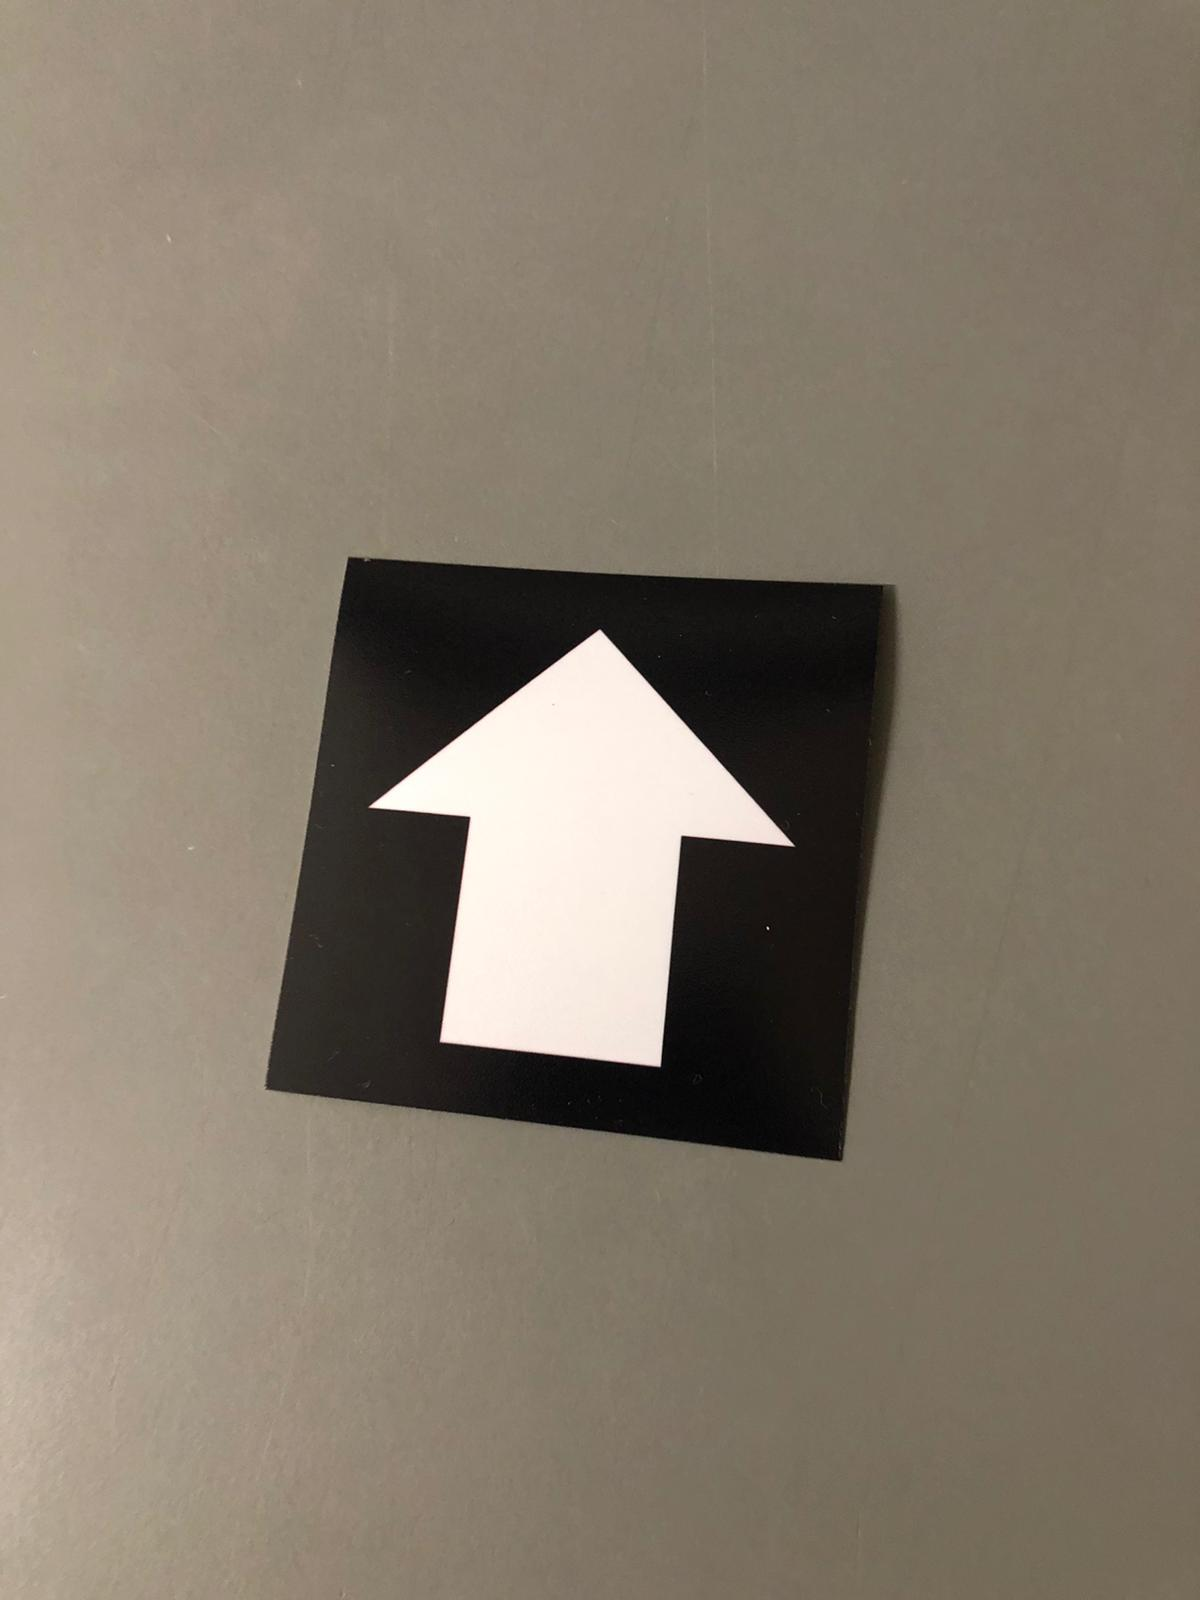Top Arrow: (338, 574, 841, 1115)
